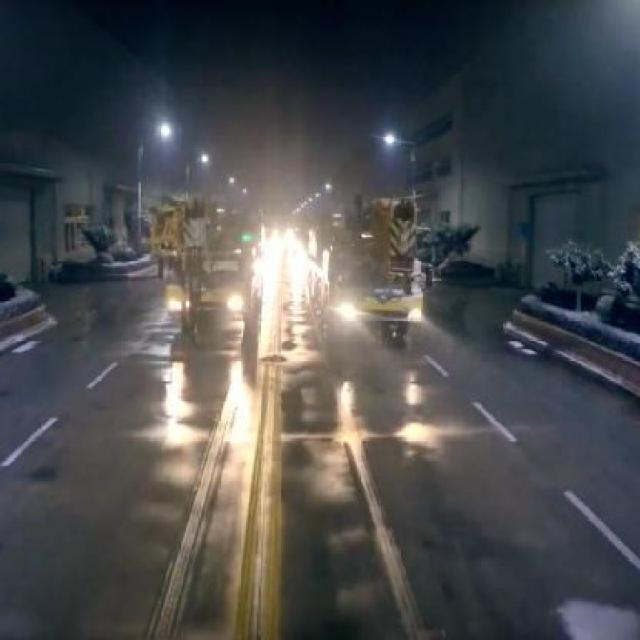Mobile Crane: (307, 197, 421, 348), (150, 198, 268, 333)
